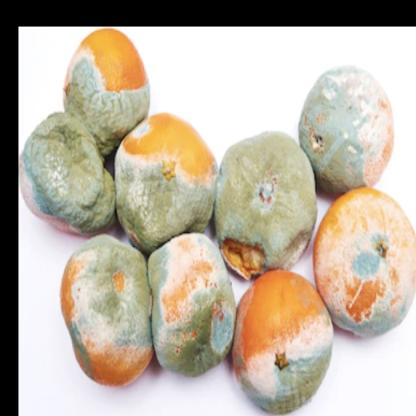rotten: (16, 26, 416, 416)
